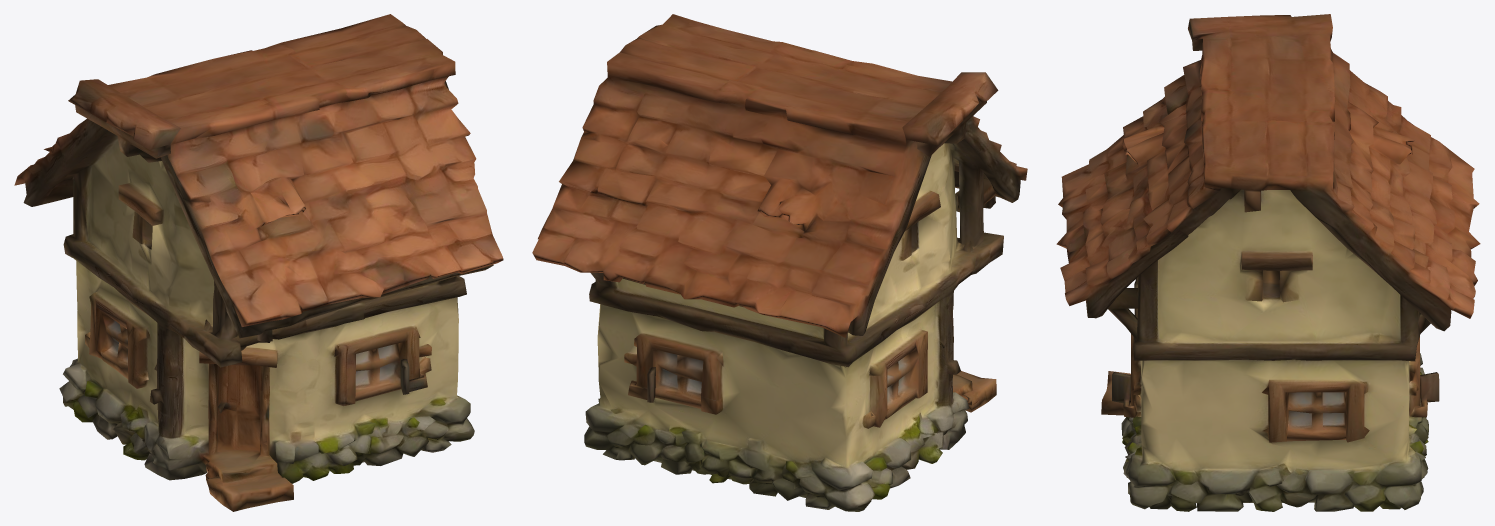
The model's file is tripo_cottage.glb.
3 views of the same model, side by side, from view 1: azimuth 30°, elevation 25°; view 2: azimuth 150°, elevation 25°; view 3: azimuth 270°, elevation 25° (orthographic). The views are drawn at different scales.
Visible parts, largest first — view 1: tripo_node_da4e7d38-09da-4e34-9cdb-9847df66a25d; view 2: tripo_node_da4e7d38-09da-4e34-9cdb-9847df66a25d; view 3: tripo_node_da4e7d38-09da-4e34-9cdb-9847df66a25d.
Part boxes in pixels (<box>): tripo_node_da4e7d38-09da-4e34-9cdb-9847df66a25d: <box>14,14,503,511</box>; tripo_node_da4e7d38-09da-4e34-9cdb-9847df66a25d: <box>532,14,1027,511</box>; tripo_node_da4e7d38-09da-4e34-9cdb-9847df66a25d: <box>1056,14,1480,511</box>.
Bounding box in the file's own units: 0.8969 × 0.9213 × 1.
Materials: 1 (1 with a texture image).
